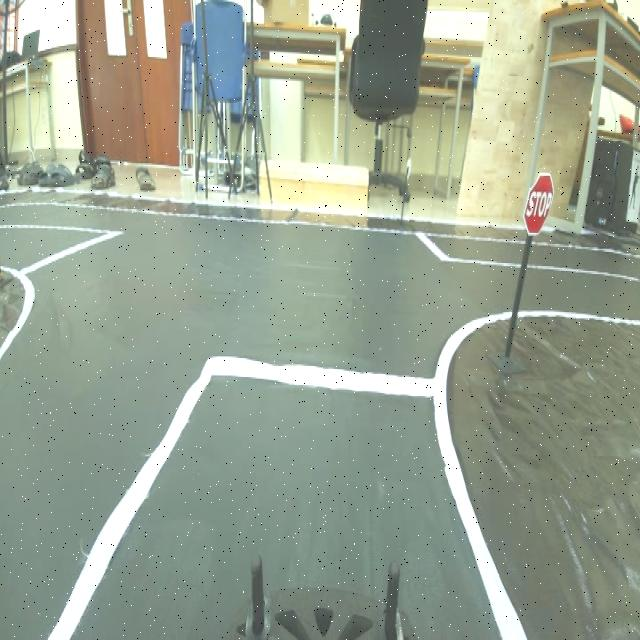stop: (523, 167, 558, 239)
